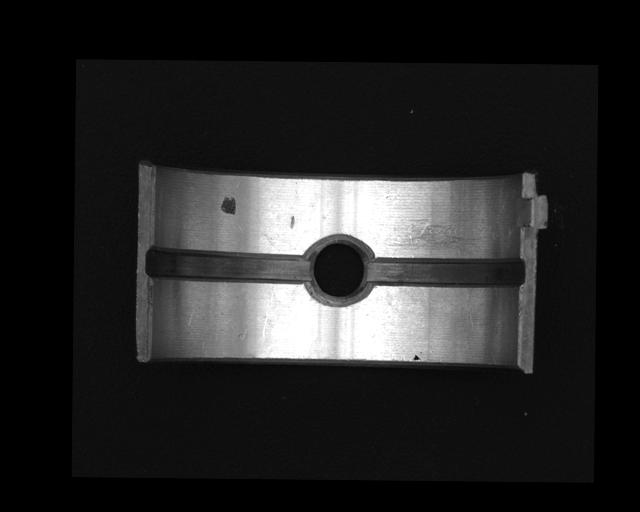blot: (220, 195, 237, 215), (413, 351, 423, 361)
bruise: (288, 215, 294, 228)
gap: (146, 244, 313, 283), (367, 259, 525, 287)
hole: (308, 236, 373, 306)
nick: (260, 285, 274, 337)
scratch: (383, 224, 487, 251)
